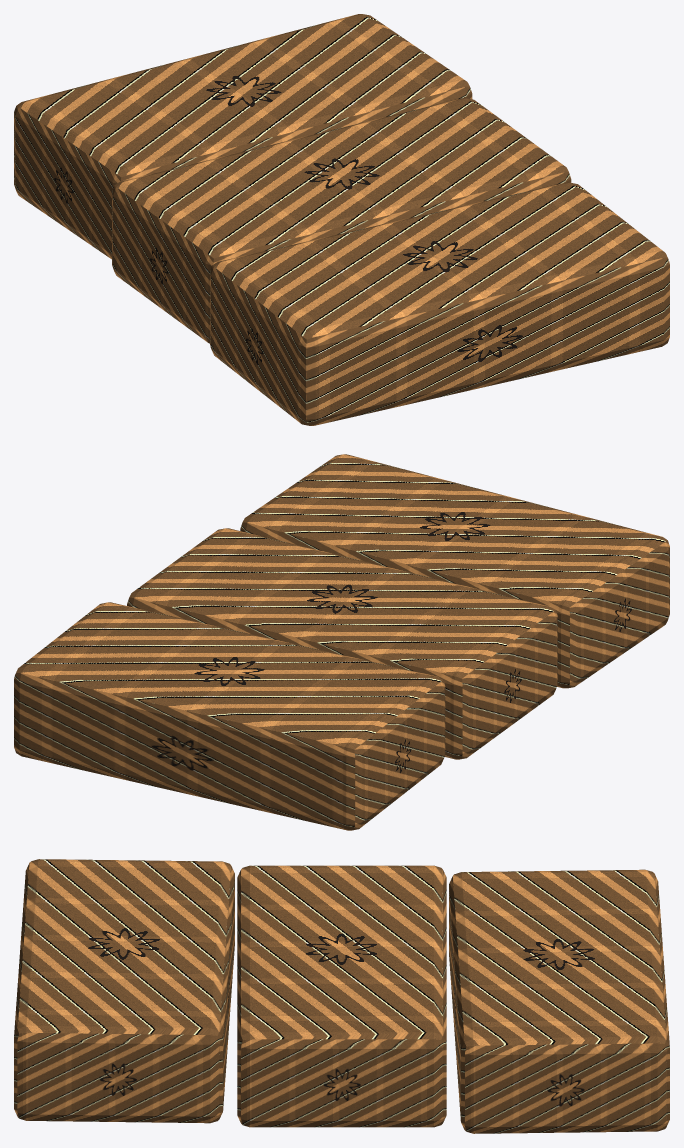
The model's file is droga.glb.
The picture shows the model from 3 angles, top to bottom: view 1: azimuth 30°, elevation 25°; view 2: azimuth 150°, elevation 25°; view 3: azimuth 270°, elevation 25°; orthographic projection. The views are drawn at different scales.
Visible parts, largest first — view 1: Tablete_0, Tablete_2, Tablete_1; view 2: Tablete_2, Tablete_0, Tablete_1; view 3: Tablete_2, Tablete_0, Tablete_1.
Boxes of the visible parts, x1,y1,x2,y2 form: Tablete_0: [210, 182, 669, 425]; Tablete_2: [14, 14, 472, 259]; Tablete_1: [112, 98, 571, 343]; Tablete_2: [14, 602, 445, 830]; Tablete_0: [240, 454, 669, 688]; Tablete_1: [127, 528, 557, 759]; Tablete_2: [449, 869, 669, 1133]; Tablete_0: [14, 859, 234, 1123]; Tablete_1: [237, 865, 446, 1127].
Size of the model in its own units: 0.2145 by 0.05 by 0.3136.
Materials: 1 (1 with a texture image).
